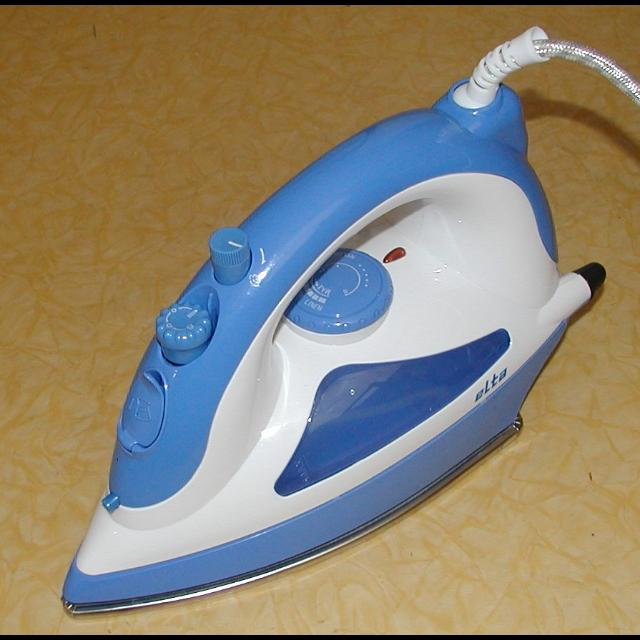Clothes-Iron: (130, 69, 507, 569)
